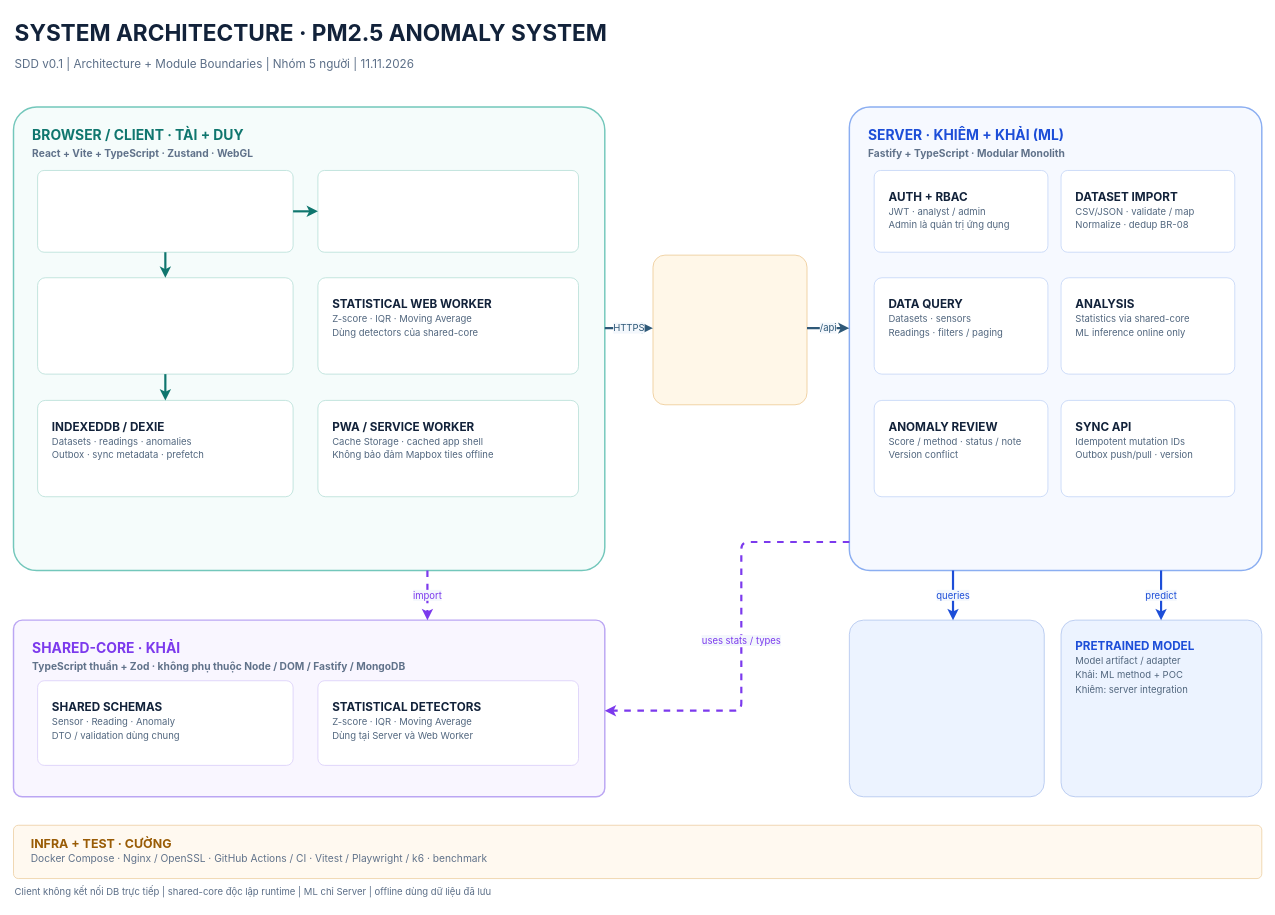
Some shapes in this 1275 by 915 pixel diagram are drawn without their labels. Each missing label, with the centre of its shape:
"3D VISUALIZATION Mapbox 3D / Three.js Cube Chỉ render chế độ đang chọn" goes at (x=448, y=211).
"DATA SOURCE ADAPTER Online: REST API · auto-cache Offline: đọc IndexedDB" goes at (x=165, y=325).
"MONGODB Database chính Server truy cập trực tiếp Datasets / readings / anomalies" goes at (x=946, y=708).
"NGINX HTTPS :443 SPA assets + /api proxy Owner: Cường" goes at (x=729, y=329).
"UI + FILTERS Dashboard · upload / review Shared filters · Zustand" goes at (x=165, y=211).
